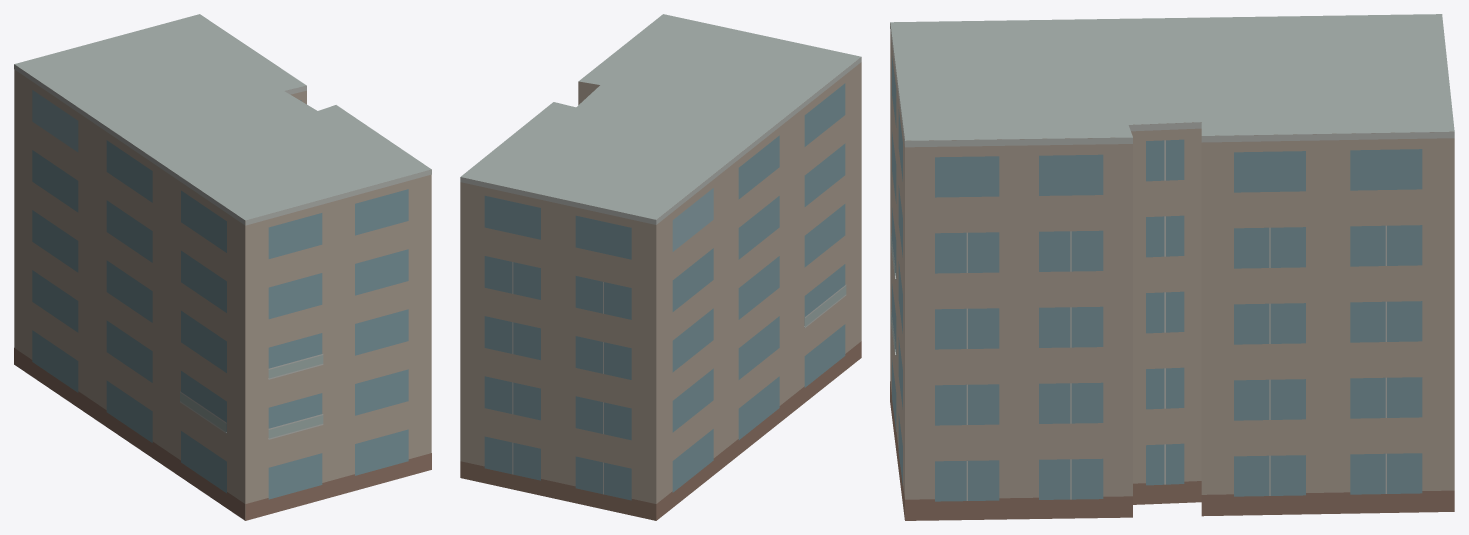
File: survey-upis-32621699.glb
The picture shows the model from 3 angles, left to right: view 1: azimuth 30°, elevation 25°; view 2: azimuth 150°, elevation 25°; view 3: azimuth 270°, elevation 25°; orthographic projection. The views are drawn at different scales.
Visible parts, largest first — view 1: survey-upis-32621699.tmp; view 2: survey-upis-32621699.tmp; view 3: survey-upis-32621699.tmp.
Part boxes in pixels (box(x1,y1,x2,y2)): survey-upis-32621699.tmp: box(14, 14, 431, 520); survey-upis-32621699.tmp: box(460, 14, 861, 520); survey-upis-32621699.tmp: box(890, 14, 1454, 520).
Size of the model in its own units: 10.24 by 14.3 by 19.26.
